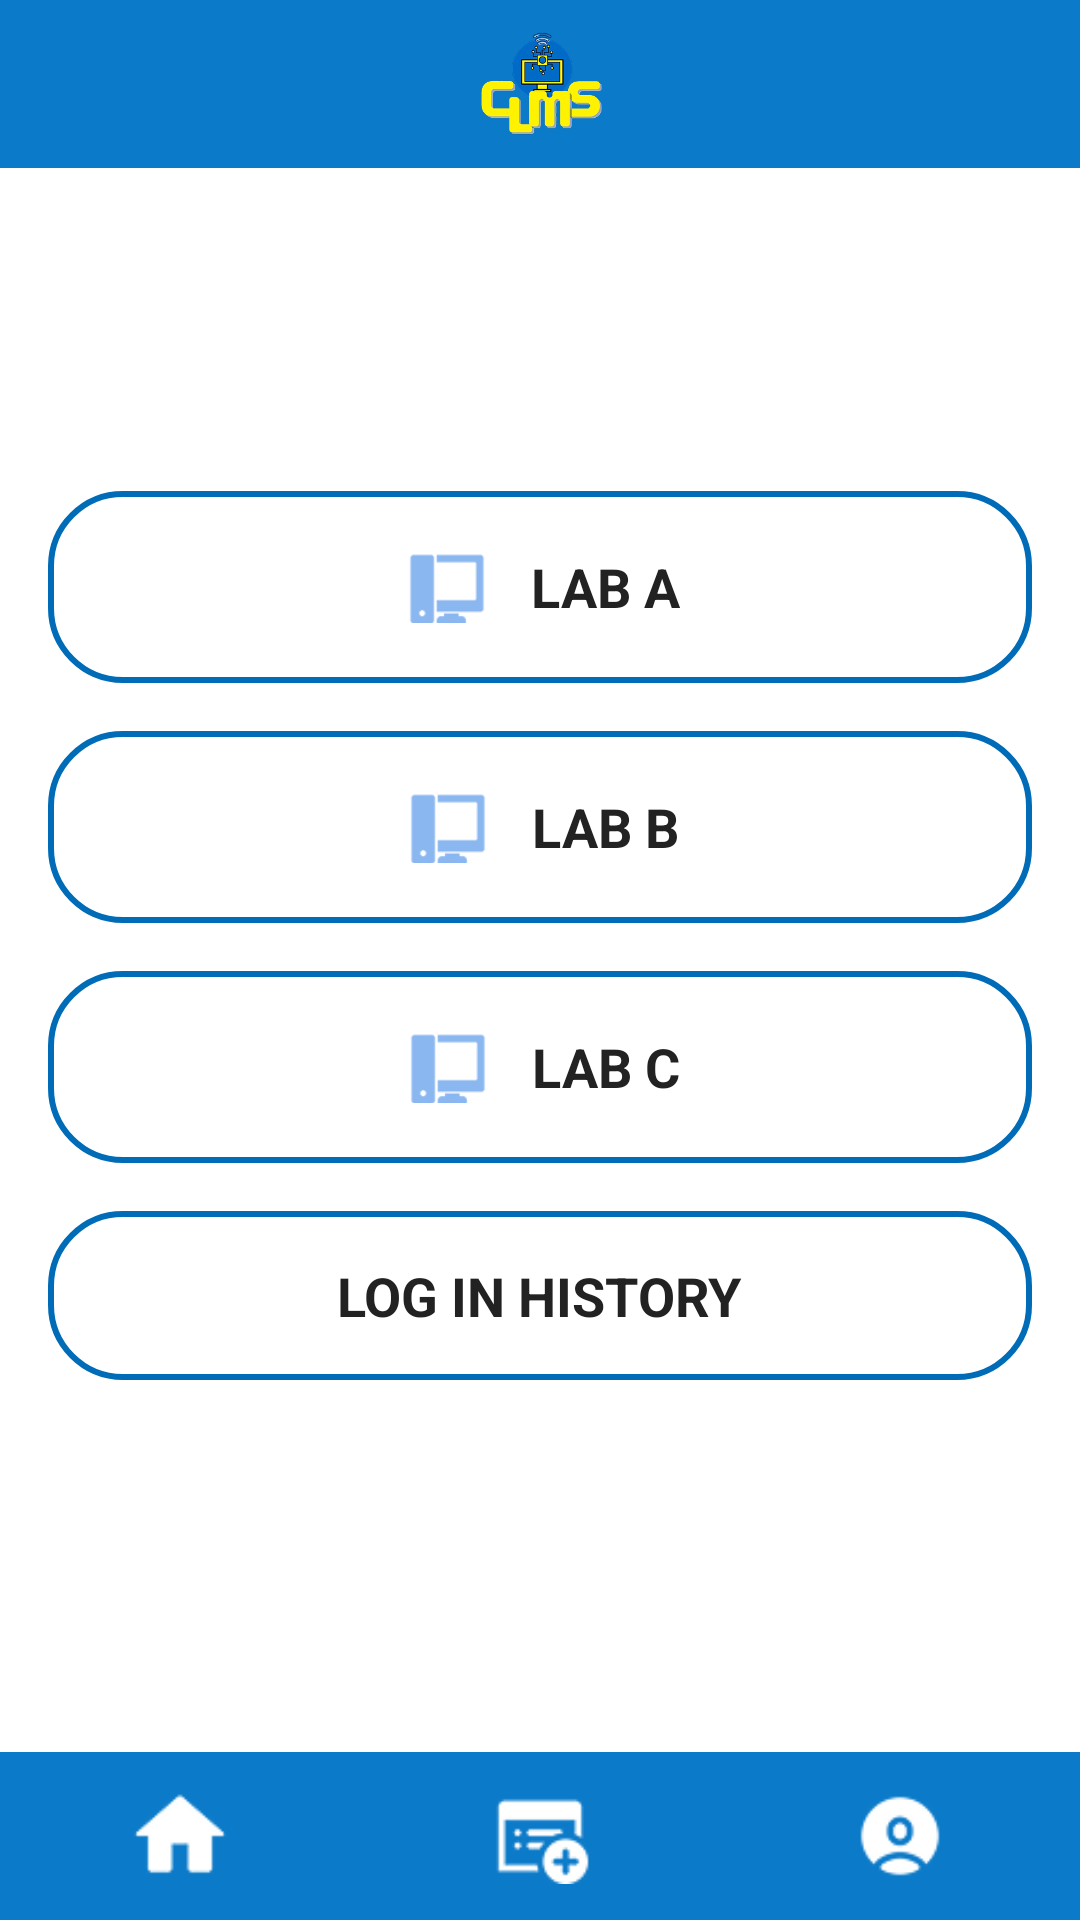

Named icons in this screenshot (1080px×1920px) and their bounding boxes, (x1, y1, x2, y2):
computers: (410, 554, 484, 623), (411, 794, 485, 863), (411, 1034, 485, 1103)
Home: (135, 1794, 225, 1873)
Profile: (860, 1796, 940, 1876)
